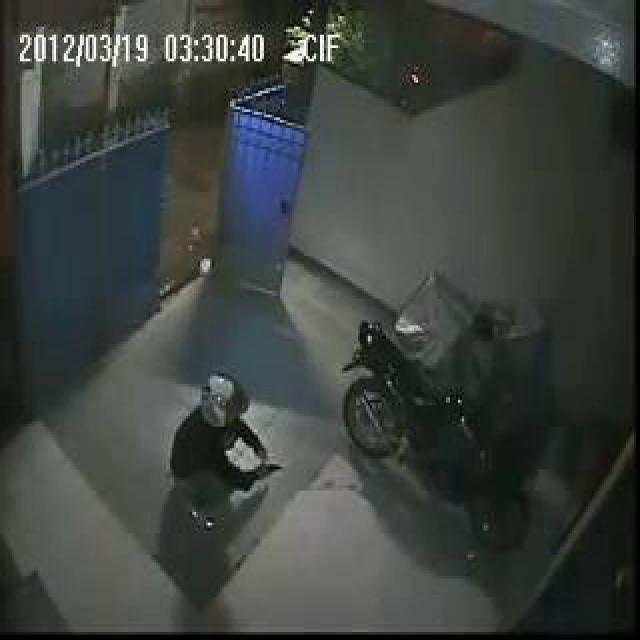stealing: (173, 254, 521, 595)
